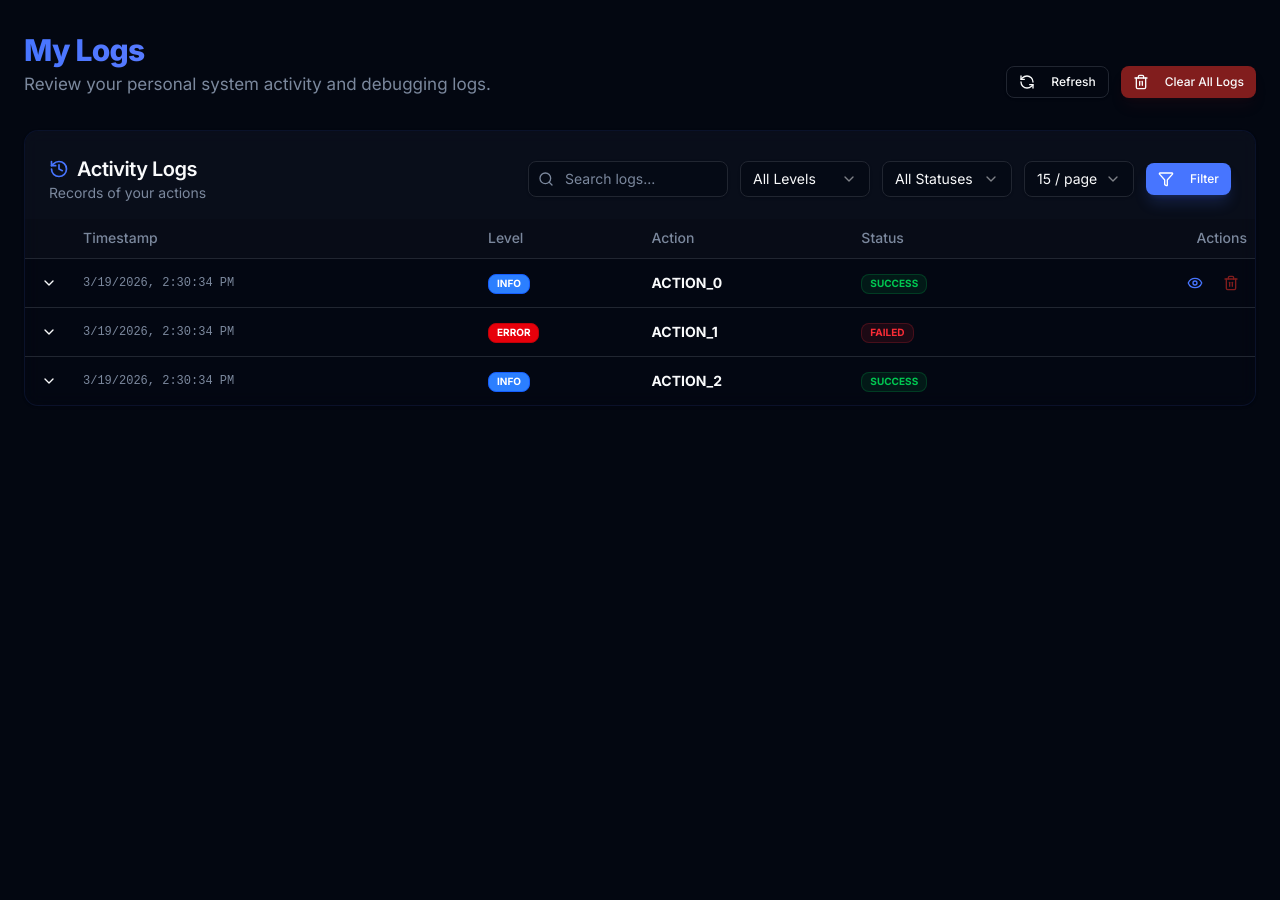
Test: MyLogsPage › opens AlertDialog when "Clear All Logs" button clicked
The width and height of the screenshot is (1280, 900).
Expected: the text "Activity Logs" is shown, [49,154,206,182]
Click the button "Clear All Logs".
click(1188, 82)  # box [1121,66,1256,98]
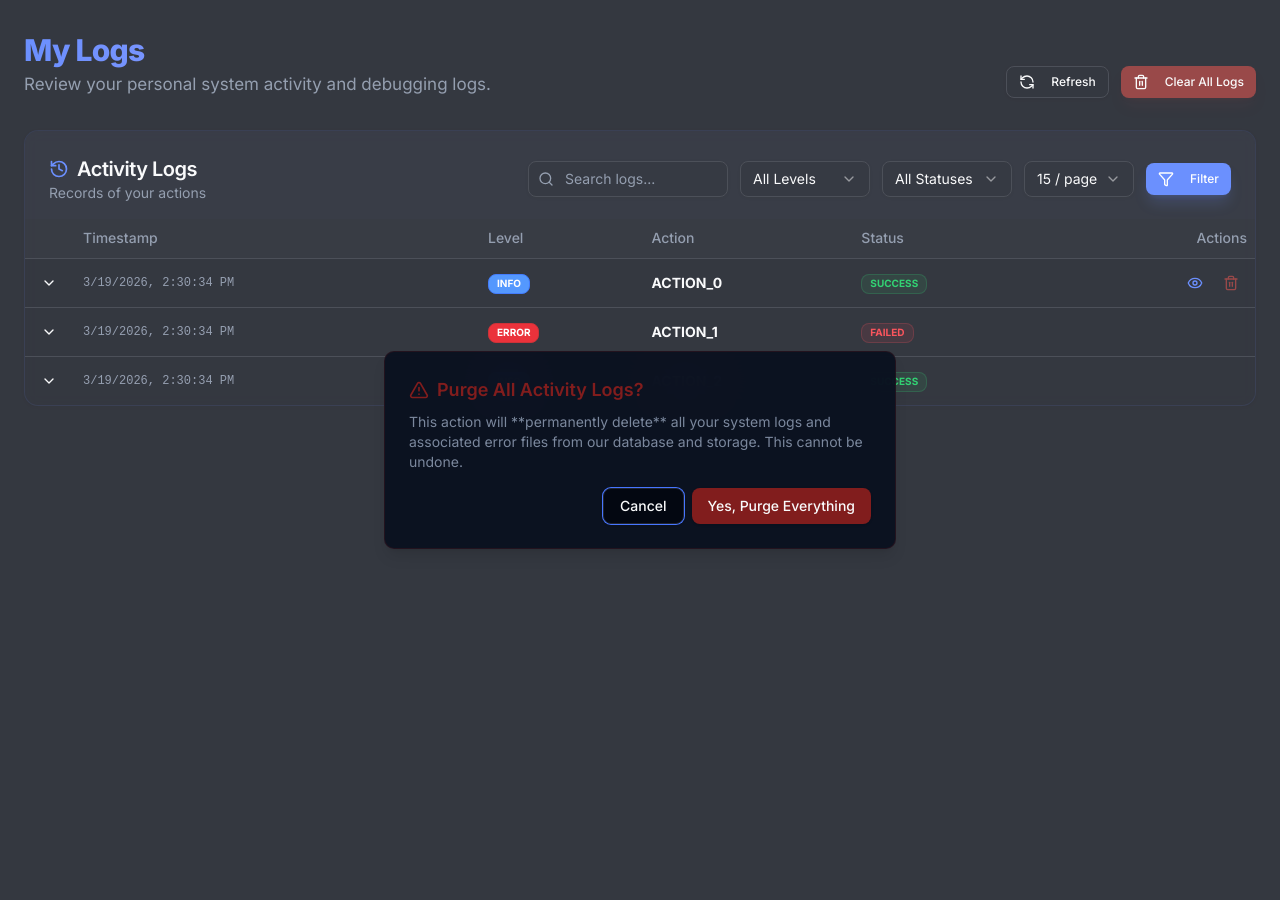
Expected: the heading "Purge All Activity Logs?" is shown, [409,379,644,400]
